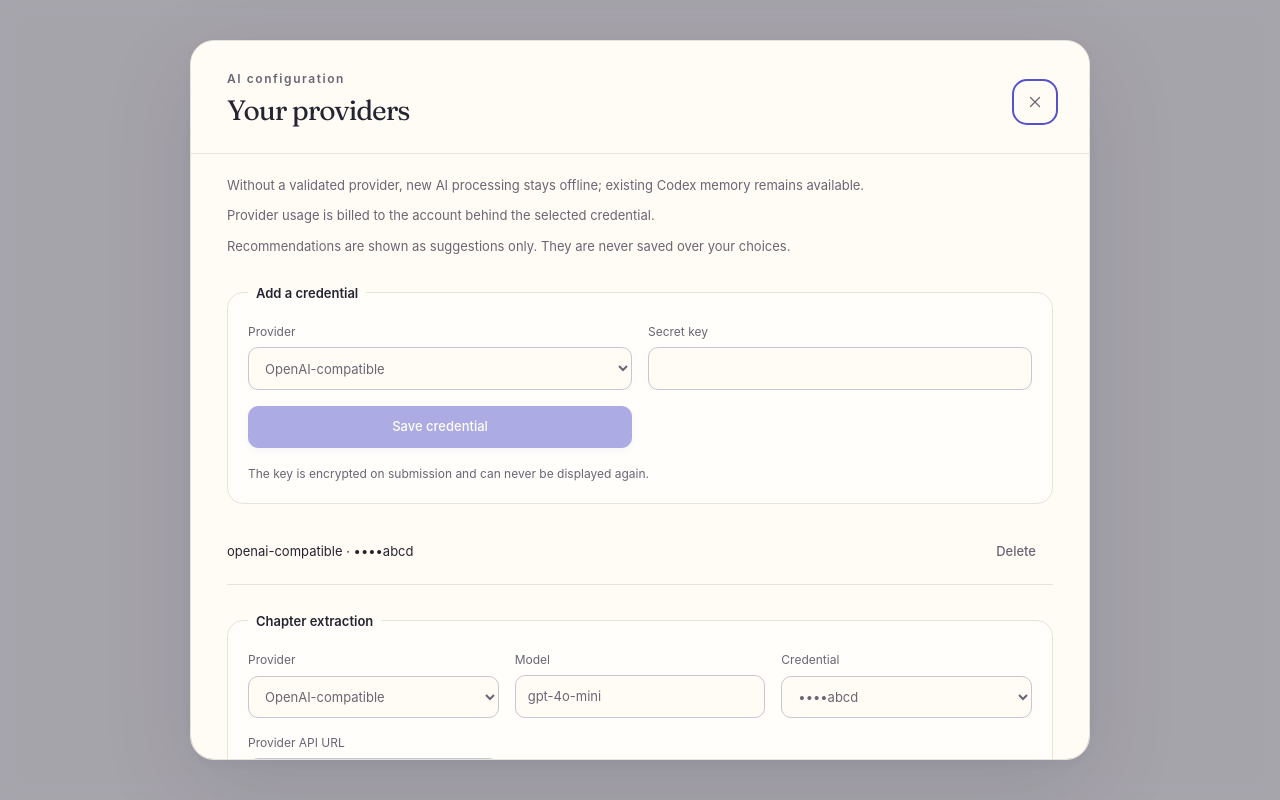
Hosted provider settings › saves an explicit owner choice and reports the validation class
Replace the text in the field labelled "Model" with "chosen-model". click: (640, 697)
box: [515,676,765,718]
(page scrolled)
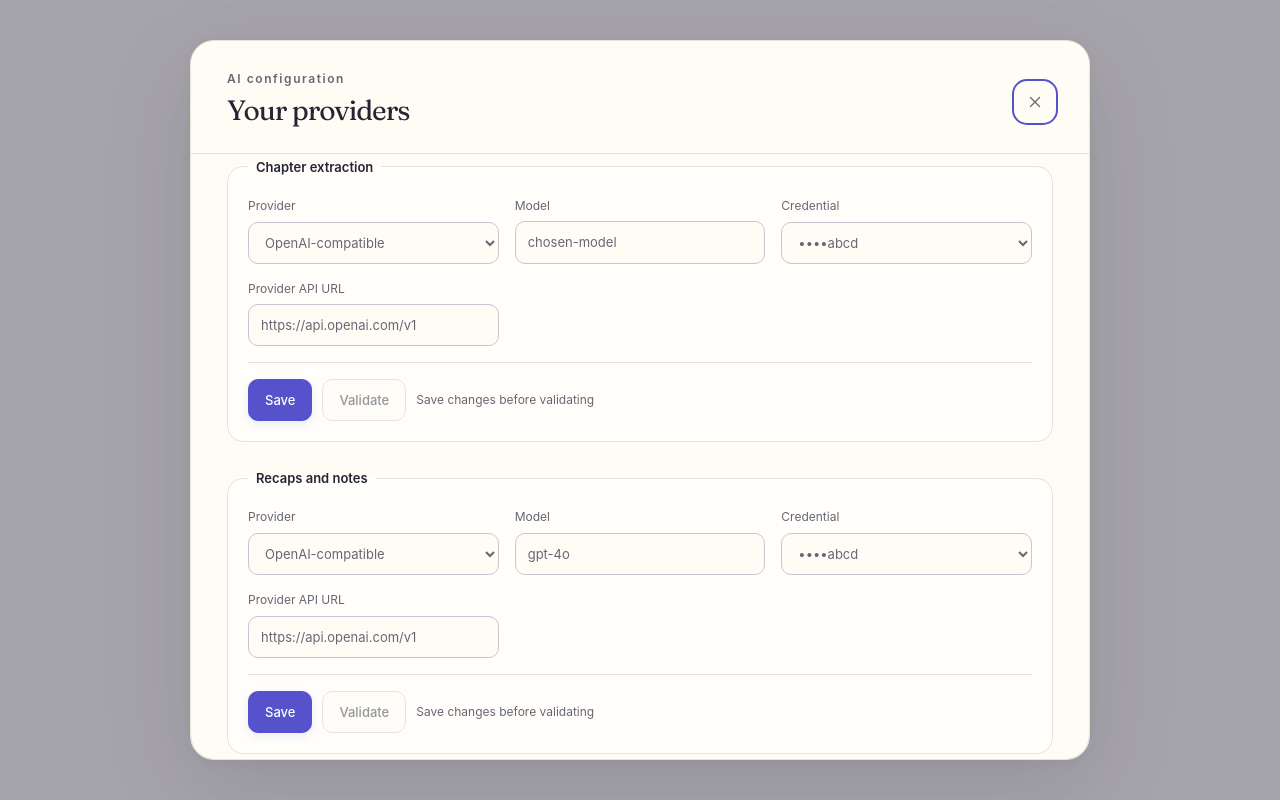
Click the button "Save" below "Chapter extraction". click: (280, 400)
box: [248,379,312,421]
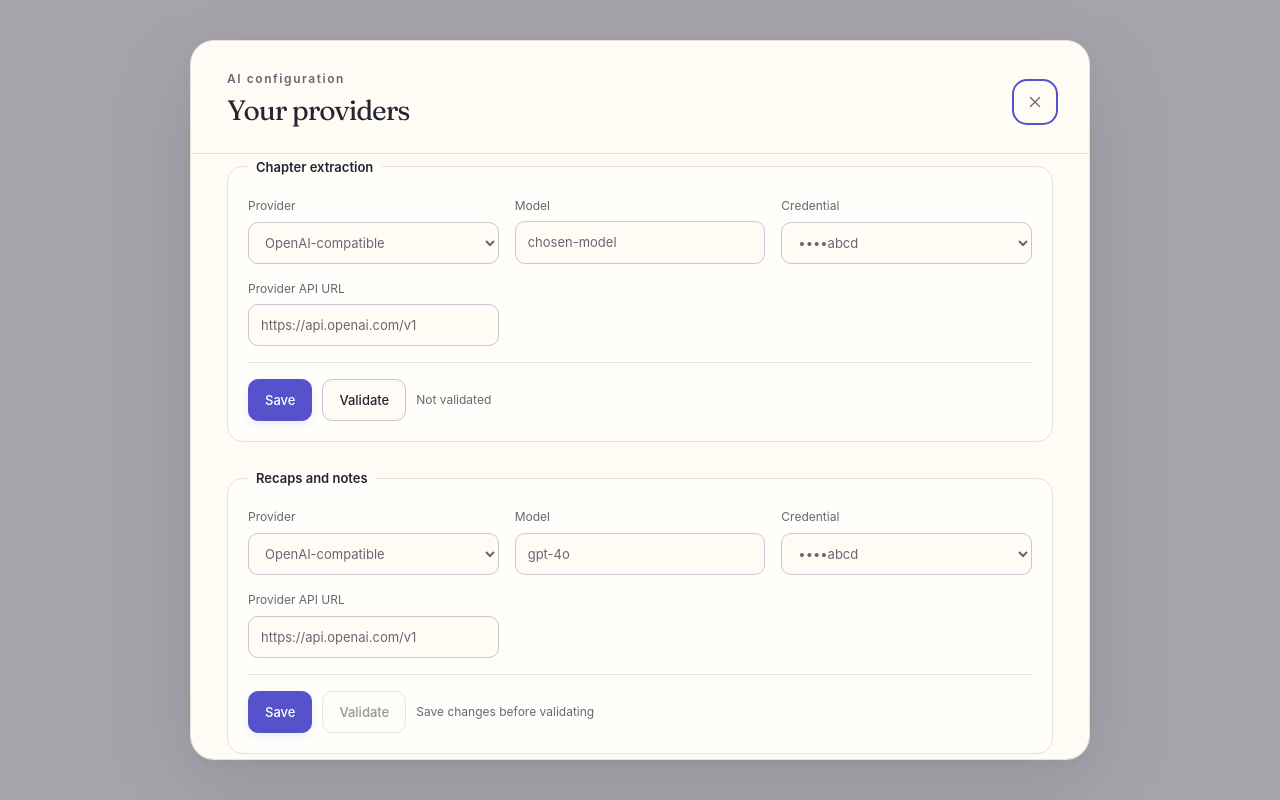
Click the button "Validate" next to "Not validated". click: (364, 400)
box: [322,379,406,421]
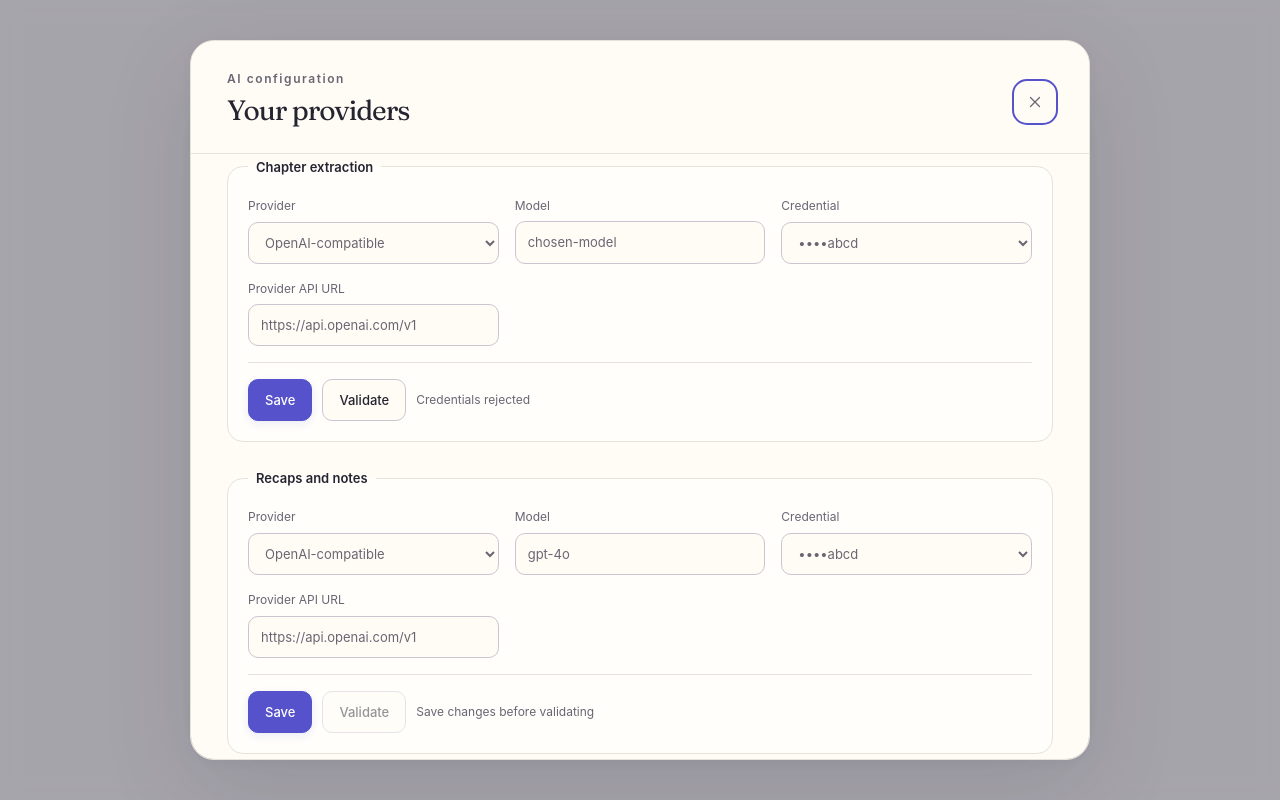
expect the text "Credentials rejected" is shown: met, box [416,391,530,410]
